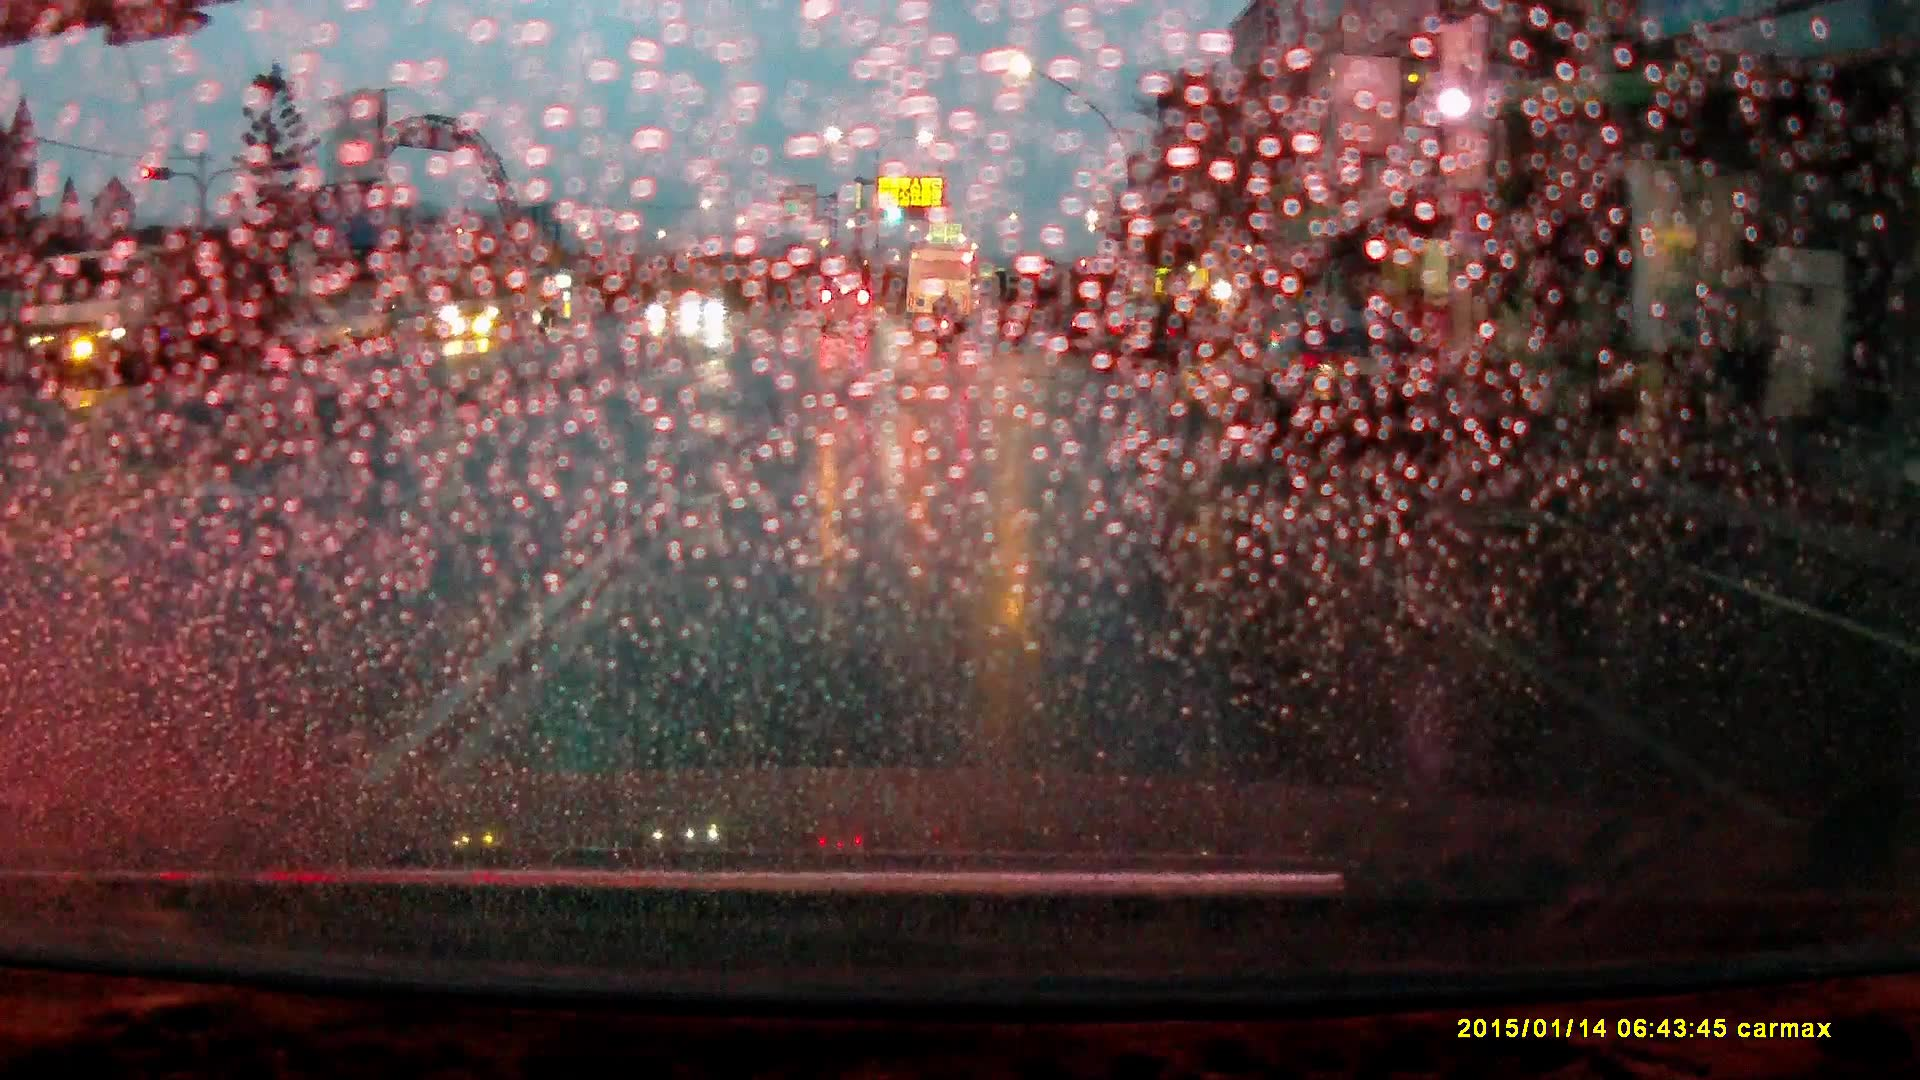rider: (933, 288, 959, 351)
vehicle: (22, 244, 249, 391), (1239, 313, 1449, 448), (442, 265, 559, 341), (908, 243, 977, 332), (1092, 307, 1181, 373), (818, 286, 880, 336), (679, 293, 727, 324)
